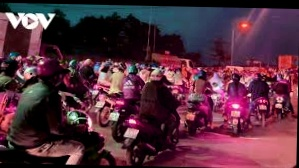Bien-so: (127, 126, 144, 138), (113, 110, 125, 120), (102, 97, 112, 105), (233, 113, 242, 121), (276, 108, 284, 114), (260, 109, 267, 115)
